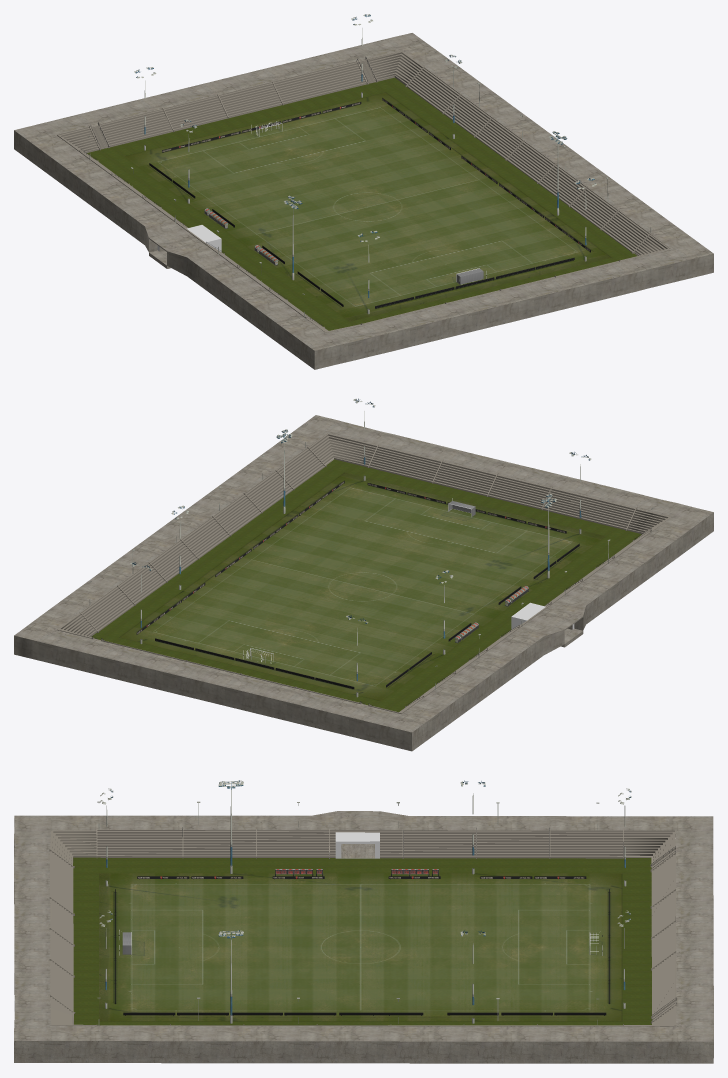
File: soccer_stadium.glb
3 renders of one model, top to bottom at view 1: azimuth 30°, elevation 25°; view 2: azimuth 150°, elevation 25°; view 3: azimuth 270°, elevation 25°, orthographic. The views are drawn at different scales.
Visible parts, largest first — view 1: field, outside, seats_1_2, field_2; view 2: field, outside, seats_1_2, field_2; view 3: field, outside, seats_1_2, field_2, Cube, Cube_1.
Boxes of the visible parts, <box> form: field: <box>124,92,611,321</box>; outside: <box>14,33,713,369</box>; seats_1_2: <box>57,50,670,332</box>; field_2: <box>87,77,636,330</box>; field: <box>119,472,605,701</box>; outside: <box>14,415,713,751</box>; seats_1_2: <box>57,432,671,713</box>; field_2: <box>91,459,641,712</box>; field: <box>99,873,622,1021</box>; outside: <box>14,811,713,1063</box>; seats_1_2: <box>49,828,676,1026</box>; field_2: <box>73,857,652,1025</box>; Cube: <box>335,832,379,858</box>; Cube_1: <box>341,844,374,858</box>.
Size of the model in its own units: 1313 by 263 by 1684.
17 materials, 15 textured.
